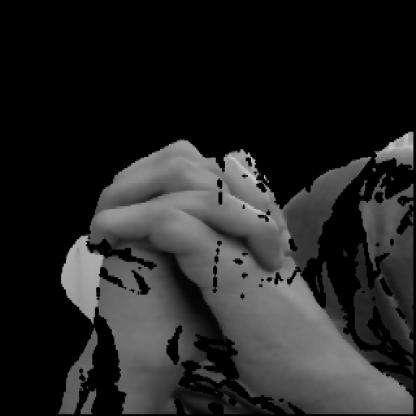prayer: (41, 132, 340, 376)
